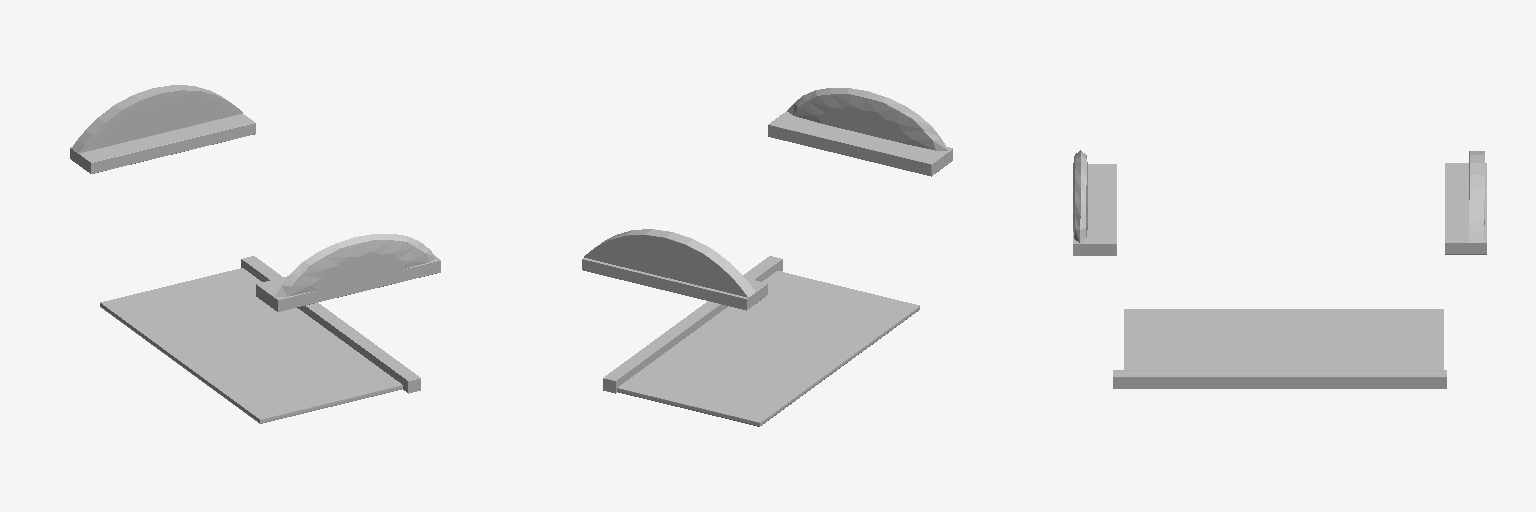
Rendered from wallPiecesHP.obj.
The picture shows the model from 3 angles: view 1: azimuth 30°, elevation 25°; view 2: azimuth 150°, elevation 25°; view 3: azimuth 270°, elevation 25°; orthographic projection.
Visible parts, largest first — view 1: pCube99, pCylinder41, pCylinder44, pCube82, pCube73, pCube81; view 2: pCube99, pCylinder41, pCylinder44, pCube81, pCube73, pCube82; view 3: pCube99, pCube73, pCube81, pCube82, pCylinder41, pCylinder44.
Boxes of the visible parts, <box> form: pCube99: <box>100,268,402,423</box>; pCylinder41: <box>72,85,242,152</box>; pCylinder44: <box>275,234,436,296</box>; pCube82: <box>70,114,255,173</box>; pCube73: <box>241,256,420,393</box>; pCube81: <box>256,258,440,311</box>; pCube99: <box>617,271,919,426</box>; pCylinder41: <box>584,229,754,297</box>; pCylinder44: <box>787,88,948,150</box>; pCube81: <box>768,110,952,176</box>; pCube73: <box>603,256,782,393</box>; pCube82: <box>582,258,767,310</box>; pCube99: <box>1124,309,1443,369</box>; pCube73: <box>1113,370,1446,388</box>; pCube81: <box>1073,164,1116,255</box>; pCube82: <box>1445,163,1486,254</box>; pCylinder41: <box>1469,151,1484,242</box>; pCylinder44: <box>1073,150,1087,243</box>.
Bounding box in the file's own units: 8.35 × 9 × 18.17.